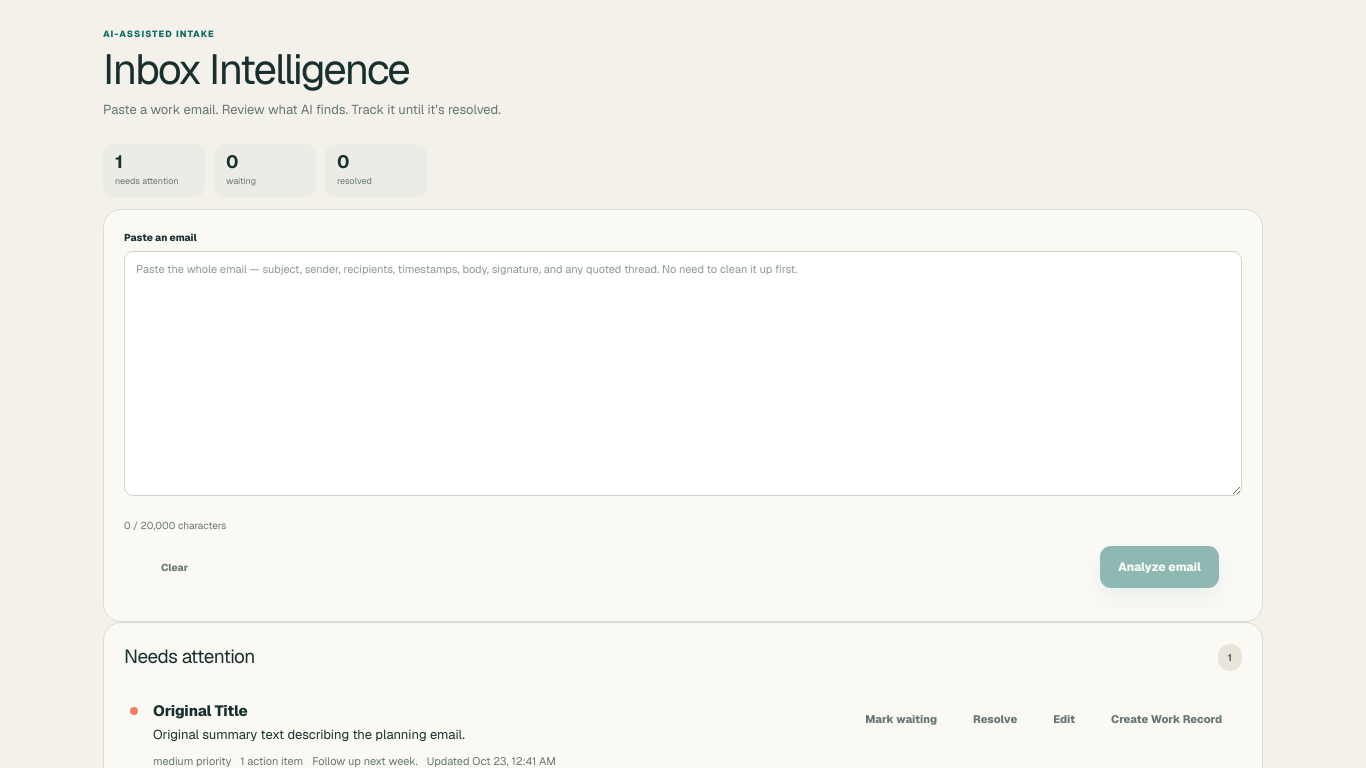
Test case: Edit — opening, Cancel, and Save Changes › Edit opens prefilled with the record's current title/summary/priority/action item values
Click the button "Edit": [1064, 719] box [1039,701,1089,737]
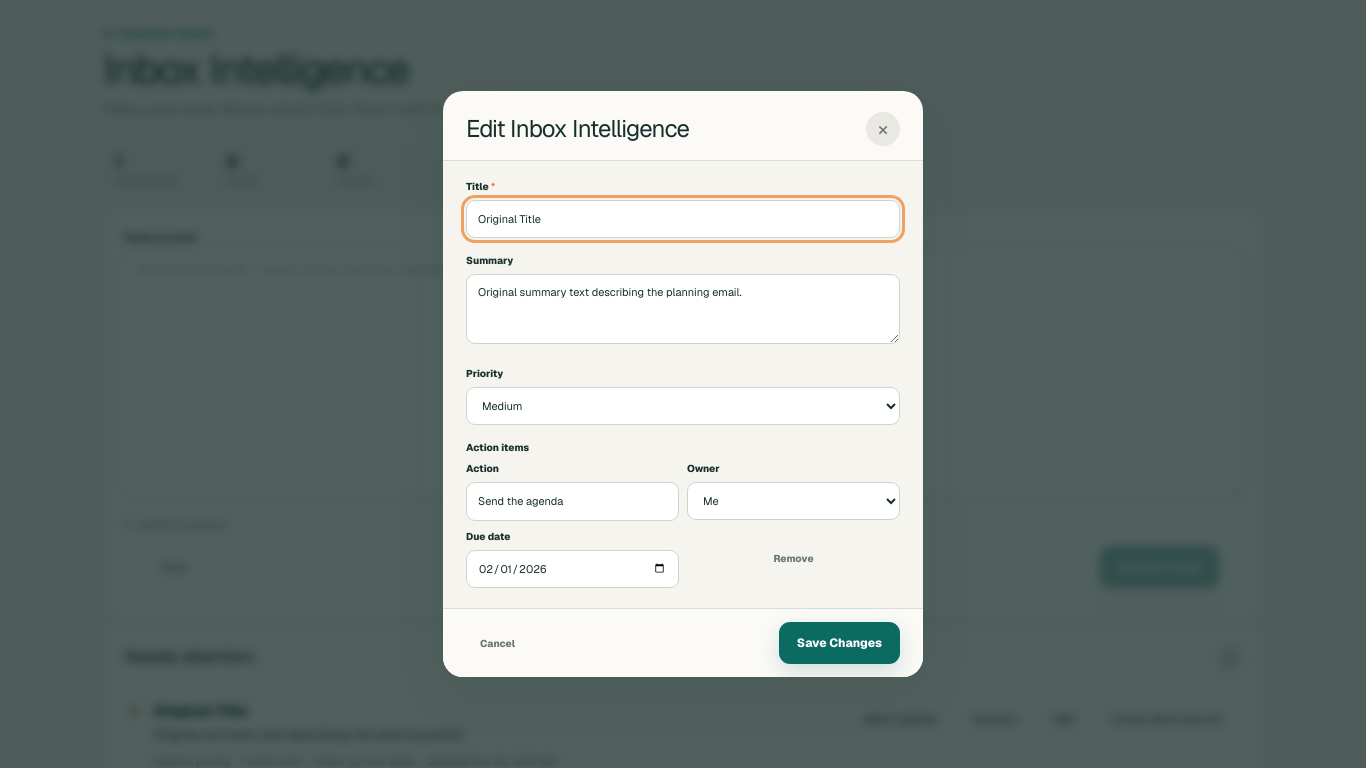
Check: the field showing "Original Title" is shown, box [466,200,900,238]
Check: the text box showing "Original summary text describing the planning email." is shown, box [466,274,900,344]
Check: the field showing "Send the agenda" is shown, box [466,482,679,521]
